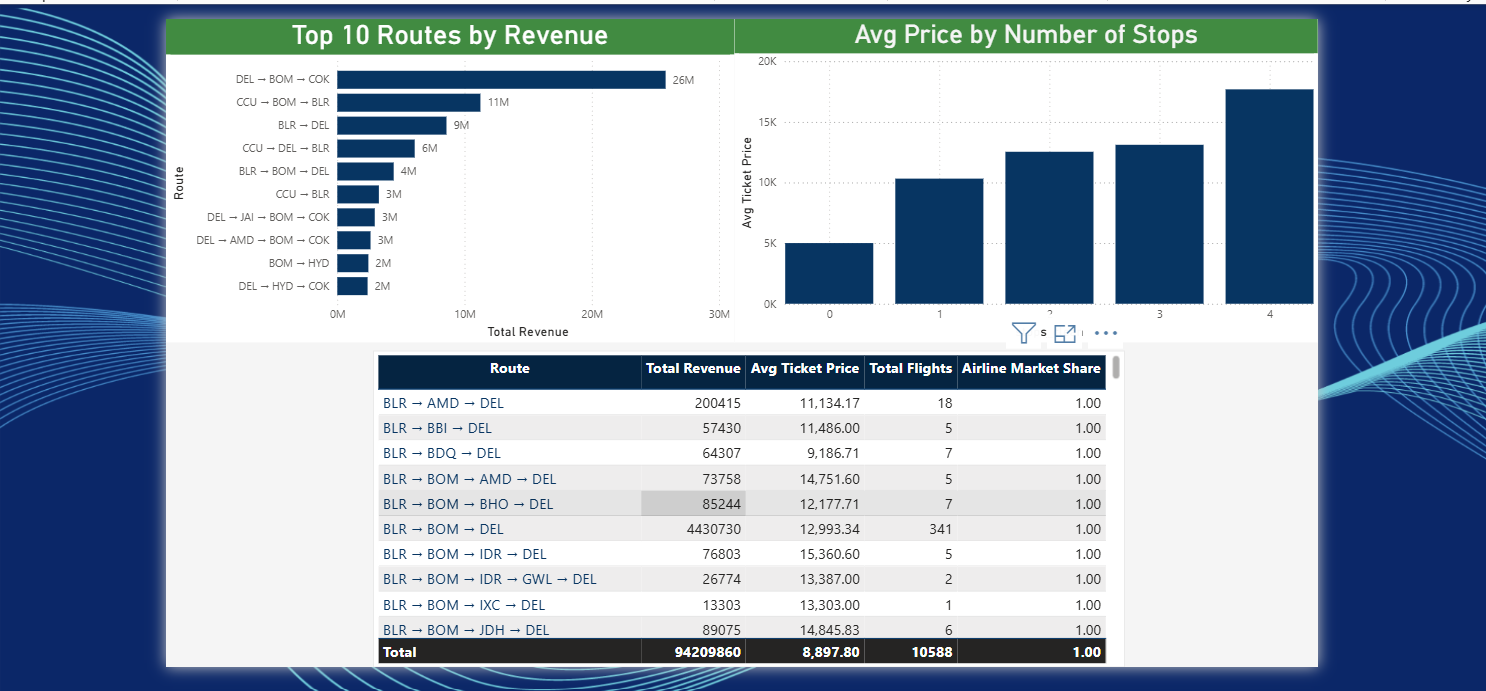

The dashboard page shown, as its layout file describes it:
{"tool":"powerbi","page":{"name":"Route Analysis","canvas":[1280,720],"ordinal":1},"visuals":[{"type":"clusteredBarChart","title":"Top 10 Routes by Revenue","fields":{"Category":["flights.Route"],"Y":["_Measure.Total Revenue"]},"box":[0,0,631.2,359.1],"z":0},{"type":"clusteredColumnChart","title":"Avg Price by Number of Stops","fields":{"Category":["flights.stops_clean"],"Y":["_Measure.Avg Ticket Price"]},"box":[631.2,0,648.2,359.1],"z":1000},{"type":"tableEx","fields":{"Values":["flights.Route","_Measure.Total Revenue","_Measure.Avg Ticket Price","_Measure.Total Flights","_Measure.Airline Market Share"]},"box":[230.4,368.7,835.1,352.1],"z":2000}]}

Visuals, with their boxes on the page's 1280x720 design canvas (x1, y1, x2, y2). These are canvas units, not pixel positions in the 1486x691 screenshot, which may show the page scaled, cropped or inside an application window:
"Top 10 Routes by Revenue" clusteredBarChart: 0:0:631:359
"Avg Price by Number of Stops" clusteredColumnChart: 631:0:1279:359
tableEx - flights.Route x _Measure.Total Revenue: 230:369:1066:721
